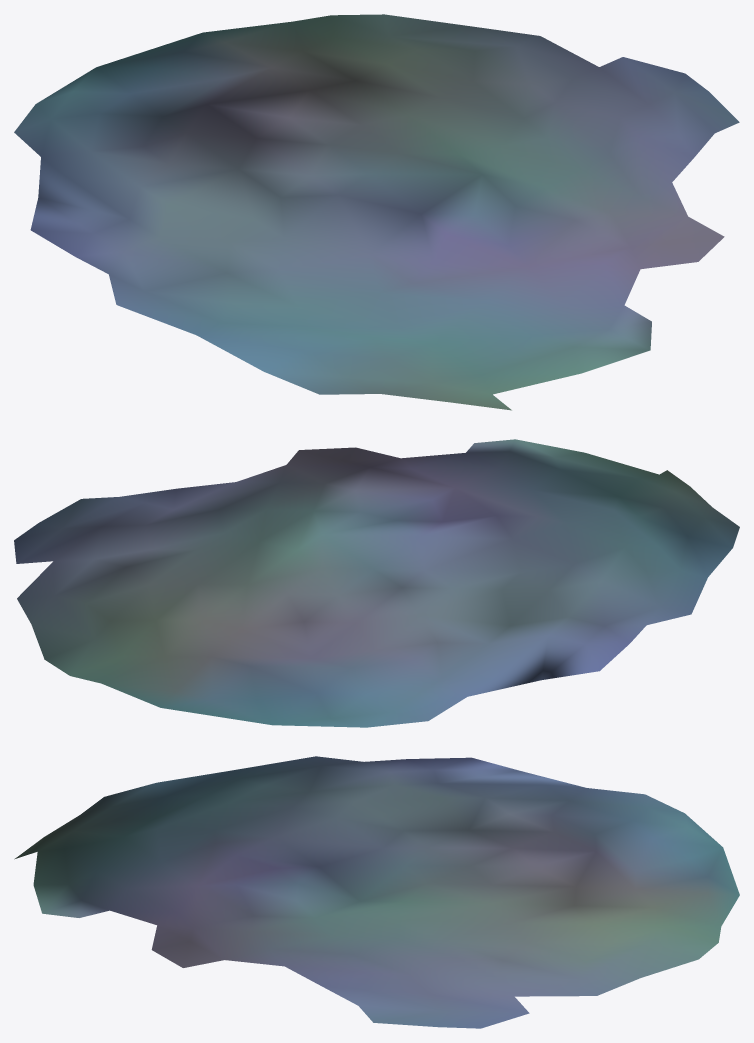
The model's file is space-galaxies-irregular-galaxy_v19.glb.
3 renders of one model, top to bottom at view 1: azimuth 30°, elevation 25°; view 2: azimuth 150°, elevation 25°; view 3: azimuth 270°, elevation 25°, orthographic. The views are drawn at different scales.
Parts seen in each view (by area): view 1: Irregular Galaxy_v19; view 2: Irregular Galaxy_v19; view 3: Irregular Galaxy_v19.
Part boxes in pixels (x1,y1,x2,y2): Irregular Galaxy_v19: (14, 14, 739, 410); Irregular Galaxy_v19: (14, 439, 739, 727); Irregular Galaxy_v19: (14, 756, 739, 1028).
Size of the model in its own units: 0.4365 by 0.0241 by 0.5.
